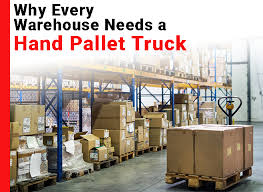Pallet Jack: (165, 95, 256, 191)
